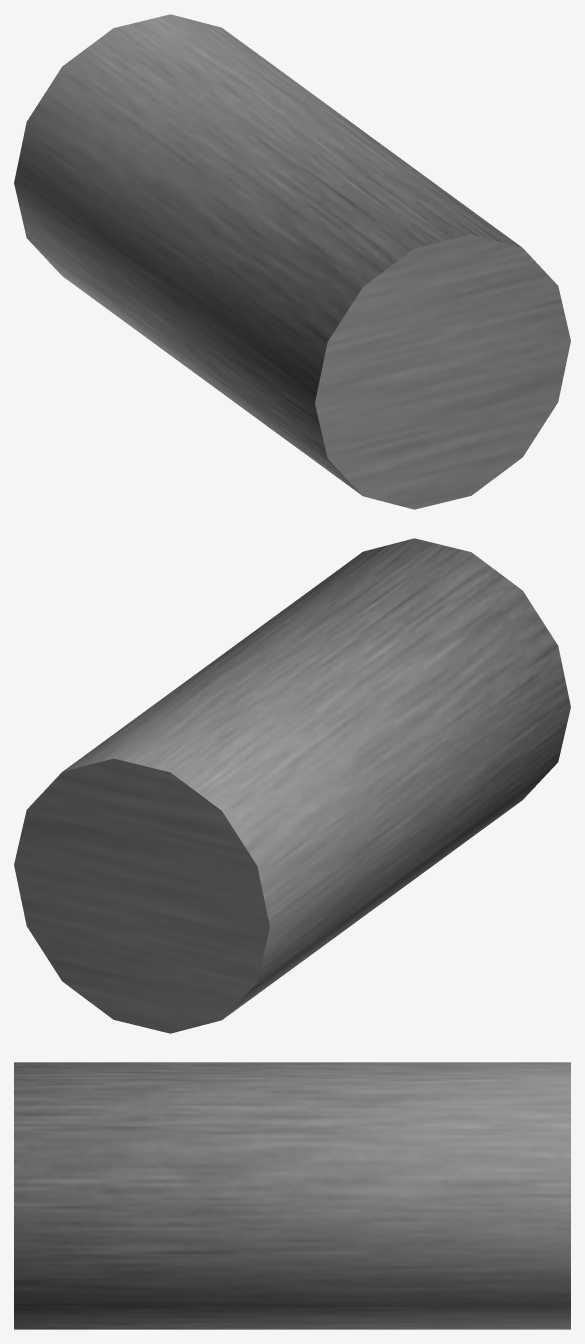
Rendered from pipe-1x2.fbx.
The picture shows the model from 3 angles, top to bottom: view 1: azimuth 30°, elevation 25°; view 2: azimuth 150°, elevation 25°; view 3: azimuth 270°, elevation 25°; orthographic projection. The views are drawn at different scales.
Visible parts, largest first — view 1: pipe_1x2; view 2: pipe_1x2; view 3: pipe_1x2.
Part boxes in pixels (left/top/right/bottom): pipe_1x2: left=14, top=14, right=570, bottom=509; pipe_1x2: left=14, top=538, right=570, bottom=1033; pipe_1x2: left=14, top=1062, right=570, bottom=1329.
Size of the model in its own units: 96.72 by 94.29 by 197.
